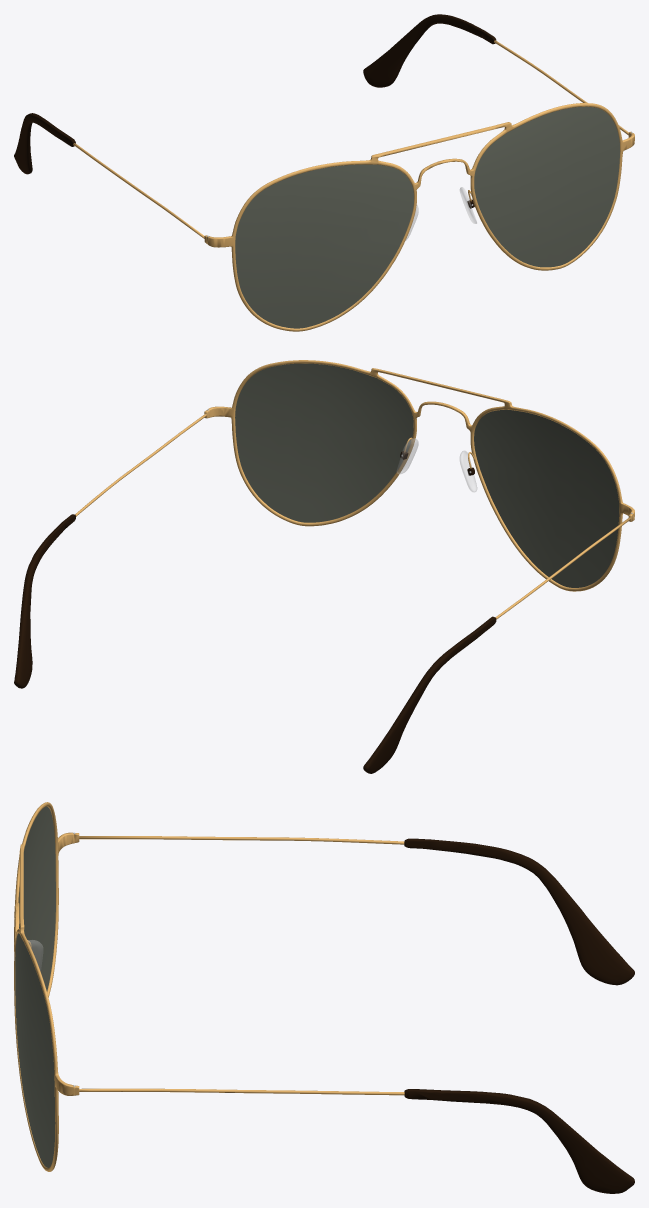
Rendered from aviator.glb.
The picture shows the model from 3 angles, top to bottom: view 1: azimuth 30°, elevation 25°; view 2: azimuth 150°, elevation 25°; view 3: azimuth 270°, elevation 25°; orthographic projection. The views are drawn at different scales.
Visible parts, largest first — view 1: Aviators_Glass tinted_0, Aviators_Gold metallic_0, Aviators_Black gloss_0; view 2: Aviators_Glass tinted_0, Aviators_Gold metallic_0, Aviators_Black gloss_0, Aviators_Transparent_0; view 3: Aviators_Glass tinted_0, Aviators_Black gloss_0, Aviators_Gold metallic_0.
Boxes of the visible parts, x1,y1,x2,y2 form: Aviators_Glass tinted_0: (235, 106, 620, 328); Aviators_Gold metallic_0: (73, 40, 634, 331); Aviators_Black gloss_0: (14, 14, 496, 208); Aviators_Glass tinted_0: (235, 363, 619, 587); Aviators_Gold metallic_0: (75, 360, 634, 619); Aviators_Black gloss_0: (14, 451, 496, 773); Aviators_Transparent_0: (397, 438, 476, 491); Aviators_Glass tinted_0: (15, 806, 55, 1167); Aviators_Black gloss_0: (404, 838, 634, 1193); Aviators_Gold metallic_0: (14, 802, 404, 1171).
Size of the model in its own units: 13.96 by 5.22 by 14.4.
